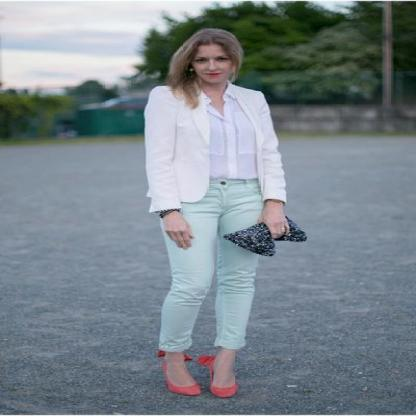jacket: (145, 83, 285, 212)
pants: (158, 174, 266, 352)
shirt: (191, 92, 256, 184)
shoe: (164, 222, 306, 396)
